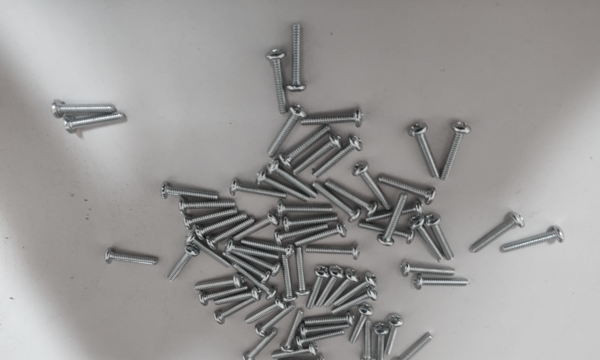longscrew: (471, 209, 523, 254), (355, 163, 398, 211), (293, 132, 341, 175), (327, 175, 376, 217), (262, 107, 302, 158), (314, 184, 361, 227), (315, 136, 363, 178), (279, 124, 327, 166), (269, 162, 319, 201), (442, 119, 471, 185), (378, 173, 435, 206), (502, 225, 562, 255), (414, 123, 445, 180), (256, 172, 310, 204), (378, 193, 408, 248), (226, 250, 282, 277), (205, 218, 255, 248), (196, 212, 246, 242), (267, 43, 288, 113), (302, 104, 363, 128), (426, 215, 458, 260), (412, 219, 444, 264), (51, 95, 112, 118), (233, 267, 274, 301), (288, 23, 308, 92), (224, 252, 270, 282), (184, 234, 230, 264), (64, 110, 125, 132), (333, 274, 376, 305), (162, 181, 217, 205), (359, 222, 416, 245), (322, 270, 358, 306), (363, 203, 425, 223), (289, 226, 347, 247), (315, 266, 343, 308), (235, 213, 277, 241), (332, 289, 378, 314), (167, 245, 198, 282), (272, 225, 330, 244), (230, 181, 285, 201), (289, 245, 310, 297), (394, 334, 436, 360), (217, 297, 259, 323), (177, 199, 234, 218), (257, 308, 294, 337), (278, 252, 298, 304), (191, 274, 243, 294), (242, 332, 279, 360), (198, 286, 249, 306), (281, 309, 303, 355), (348, 305, 373, 345), (224, 243, 279, 261), (241, 237, 295, 255), (184, 211, 234, 230), (305, 243, 362, 259), (106, 250, 163, 266), (413, 274, 469, 290), (399, 260, 455, 276), (243, 302, 283, 324), (306, 264, 325, 309), (211, 291, 259, 308), (278, 203, 332, 217), (284, 214, 338, 228), (269, 344, 319, 359), (296, 334, 346, 349), (299, 321, 349, 336), (305, 312, 355, 327), (386, 311, 401, 356), (362, 320, 377, 360), (374, 325, 390, 360), (275, 355, 325, 360)
